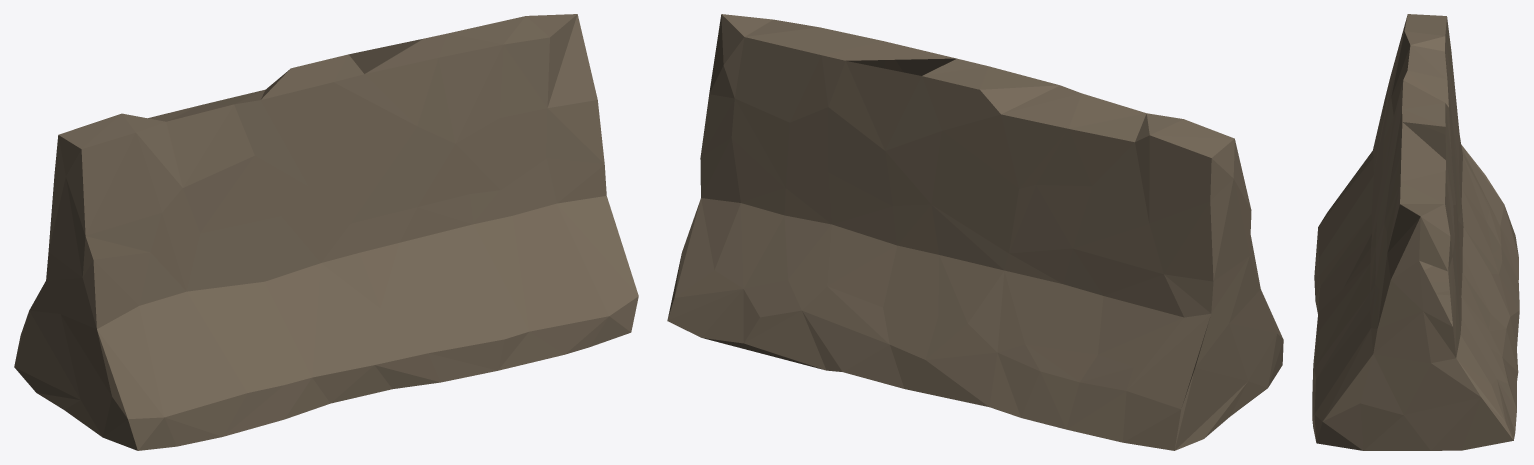
The model's file is road-barrier-lod1.glb.
The picture shows the model from 3 angles, left to right: view 1: azimuth 30°, elevation 25°; view 2: azimuth 150°, elevation 25°; view 3: azimuth 270°, elevation 25°; orthographic projection. The views are drawn at different scales.
Size of the model in its own units: 1.54 by 0.8095 by 0.6343.
